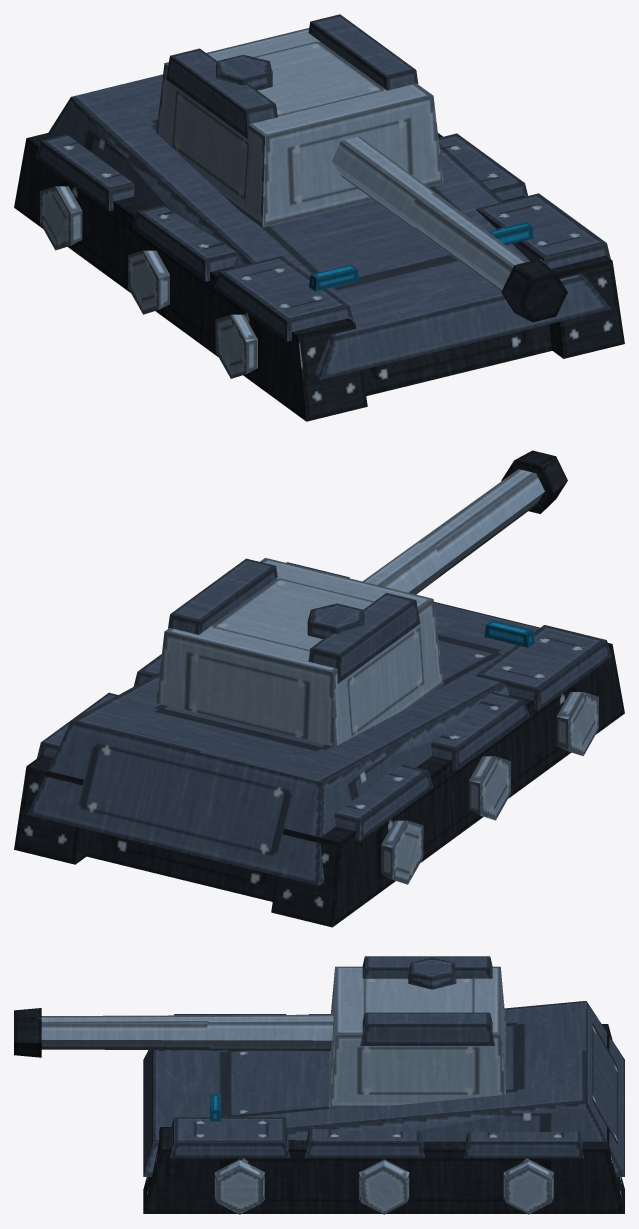
File: unit-artillery_unit.fbx
3 renders of one model, top to bottom at view 1: azimuth 30°, elevation 25°; view 2: azimuth 150°, elevation 25°; view 3: azimuth 270°, elevation 25°, orthographic. The views are drawn at different scales.
Parts seen in each view (by area): view 1: unit-artillery_unit; view 2: unit-artillery_unit; view 3: unit-artillery_unit.
Part boxes in pixels (x1,y1,x2,y2): unit-artillery_unit: [14, 14, 624, 421]; unit-artillery_unit: [14, 450, 624, 927]; unit-artillery_unit: [14, 956, 624, 1214].
Size of the model in its own units: 362 by 195 by 660.
Materials: 1 (1 with a texture image).
